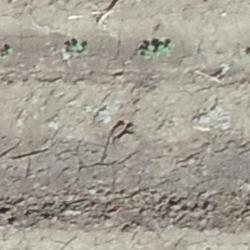cotton: (158, 44, 170, 53), (144, 49, 154, 58), (76, 44, 87, 52), (6, 47, 11, 55)
